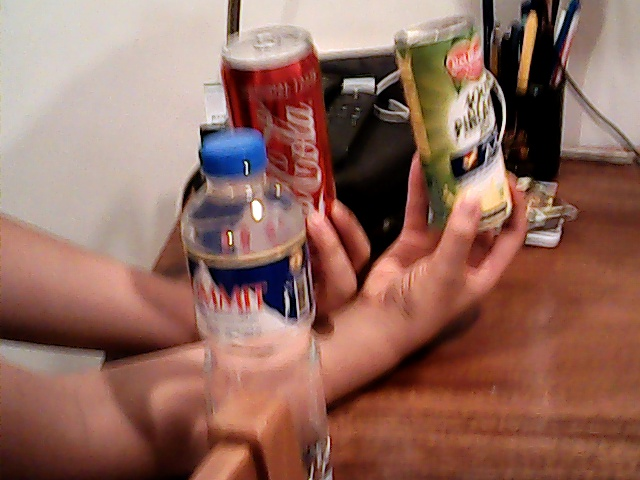Cola: (230, 39, 333, 163)
Pine Juice: (391, 24, 514, 234)
Summit Water: (194, 155, 322, 479)
